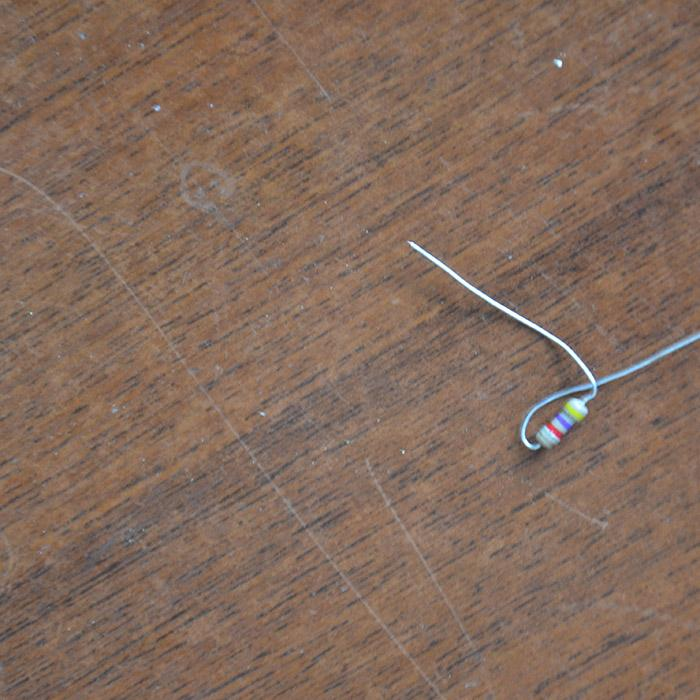resistor: (533, 397, 590, 450)
